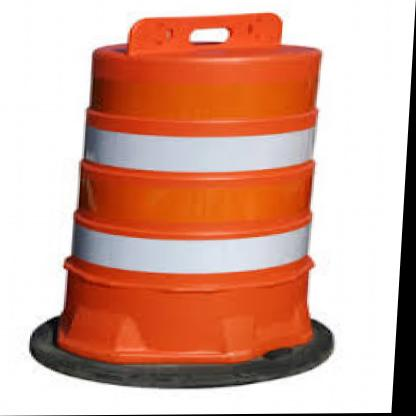obstacle: (39, 23, 360, 370)
